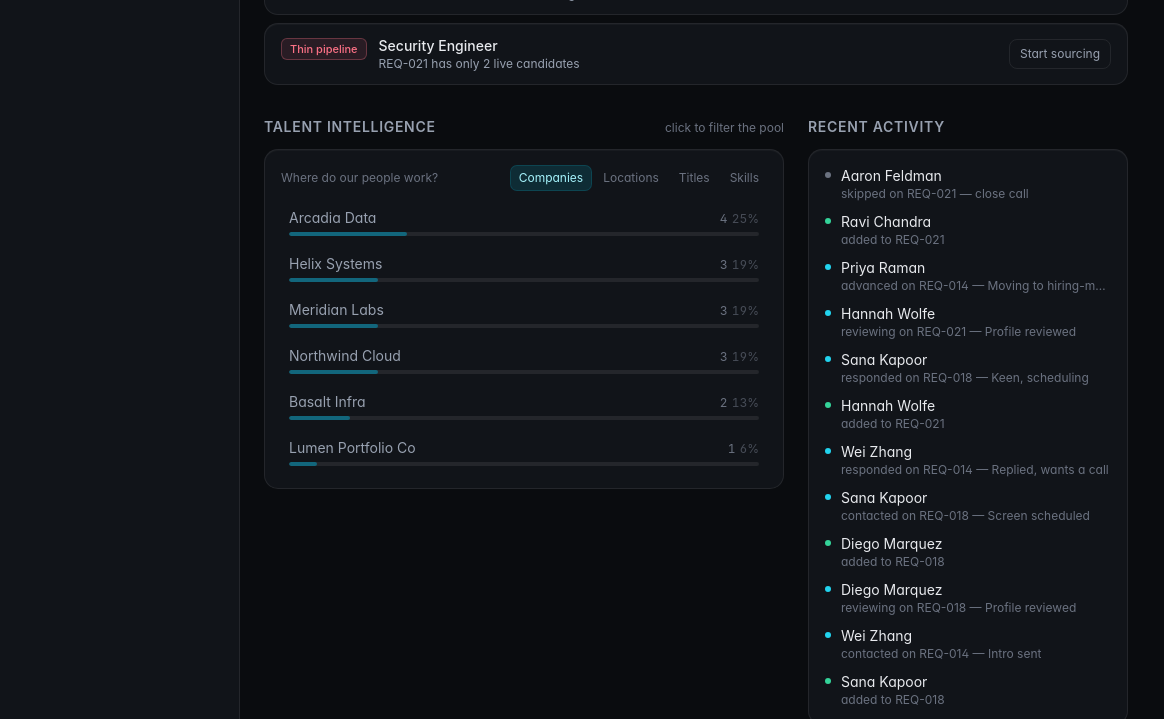
Test: 3. talent intelligence › clicking a row FILTERS the pool rather than only displaying a number
(page scrolled)
Click the button "Northwind Cloud 319%".
click(345, 355)  # box [281, 340, 767, 380]
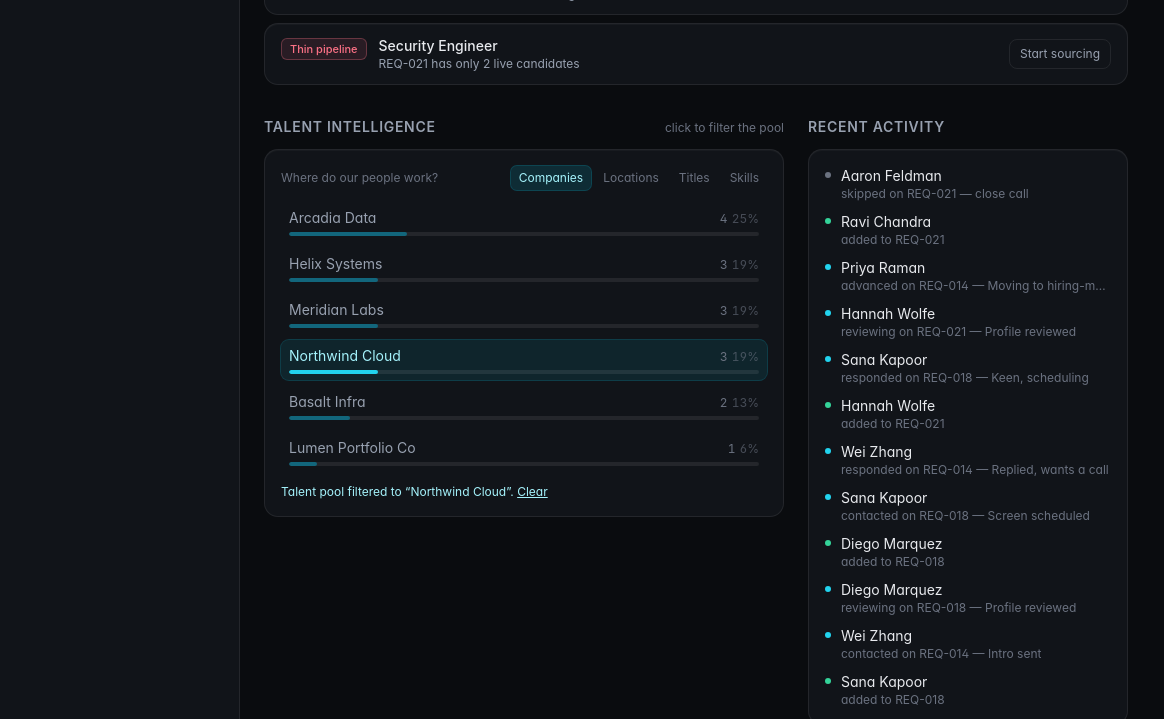
Check: the text "Talent pool filtered to “Northwind Cloud”. Clear" is shown, box [281, 484, 548, 500]
